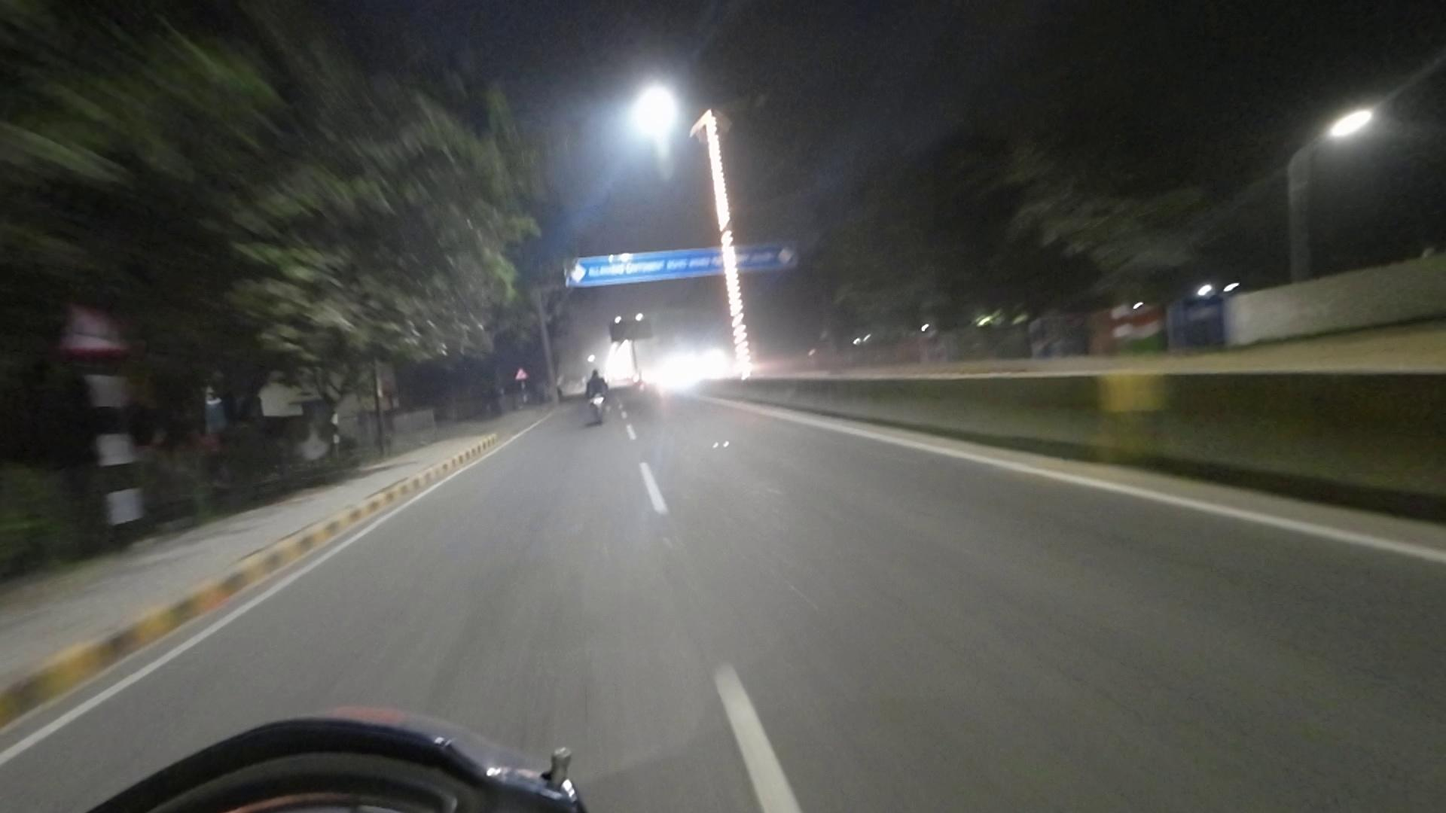streetlight: (723, 85, 783, 113)
